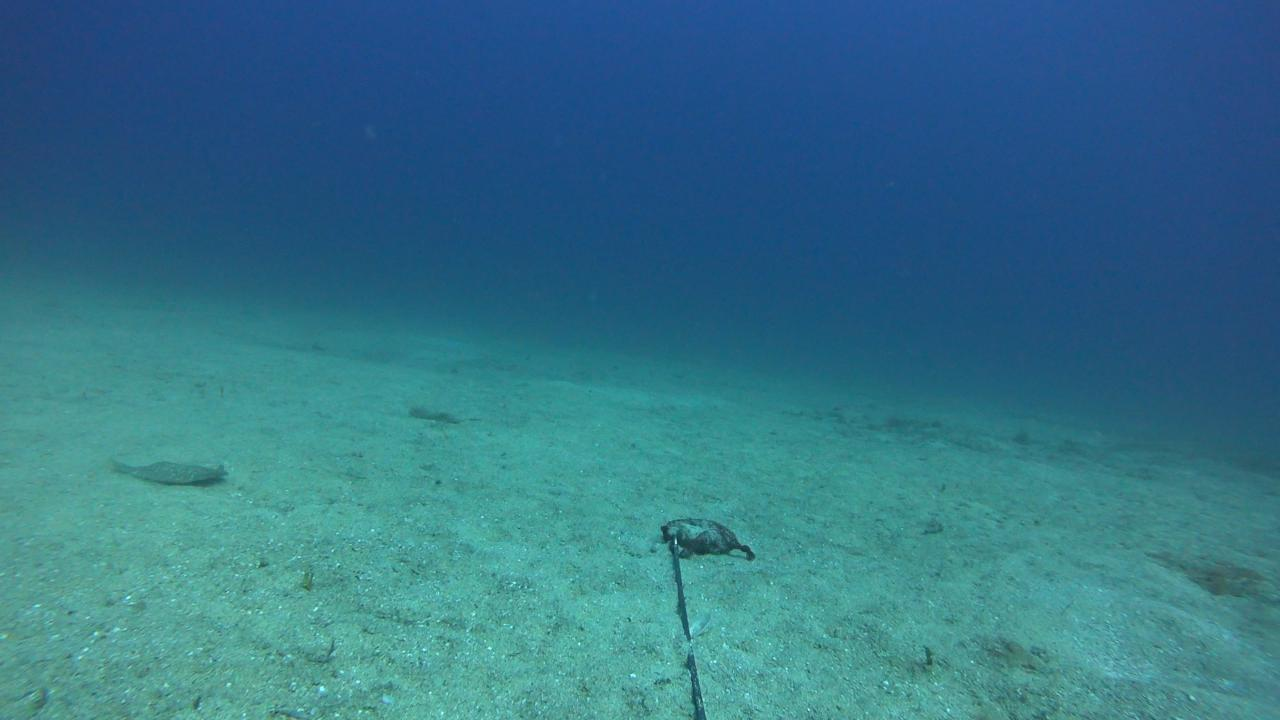bothus: (100, 452, 230, 491)
